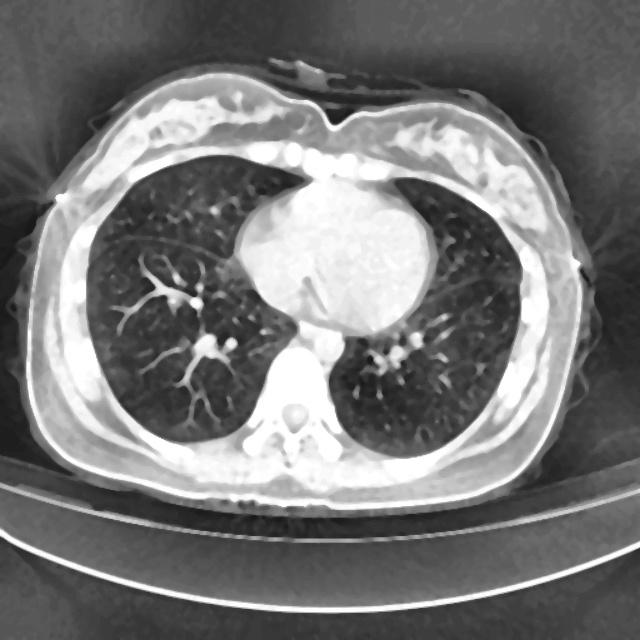covid: (7, 58, 602, 518)
